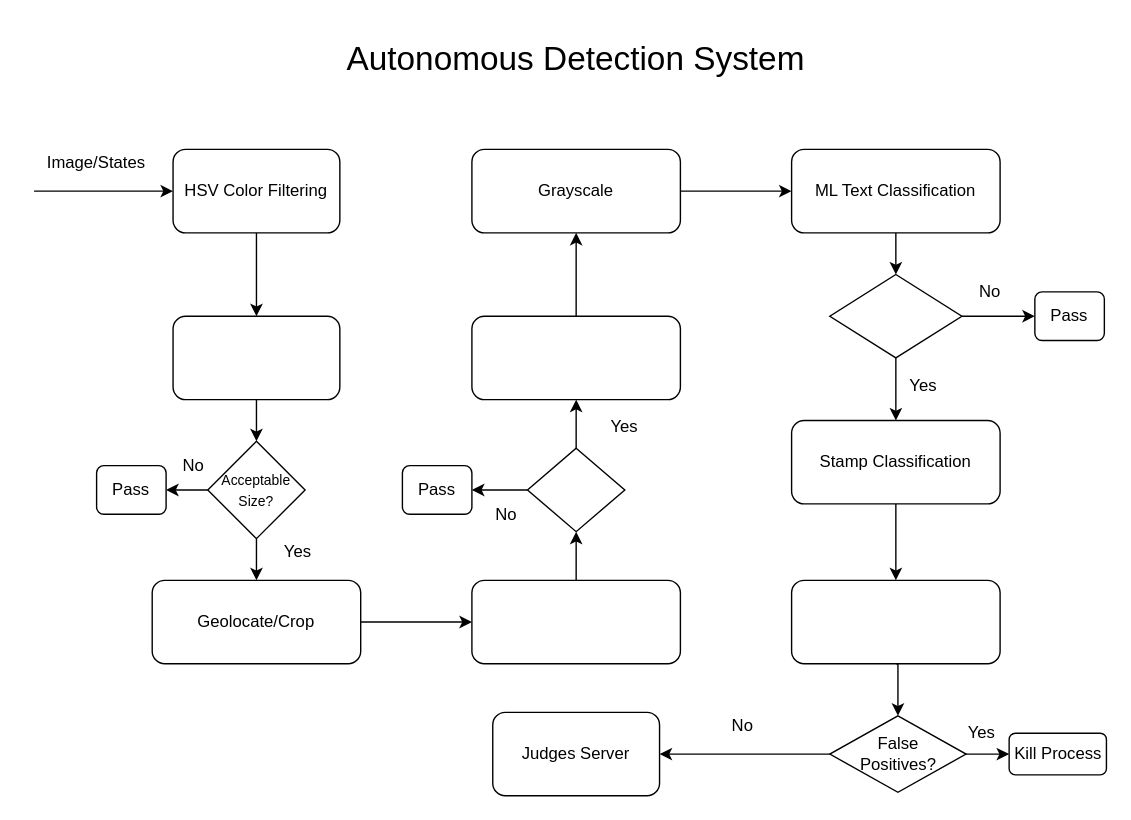
This 1131x820 diagram has some shape labels left out. The shapes that lost their labels are listed below. From the top down, each one's centre as x and y in pixels, then its label:
At point 895,315: "Valid Character?".
At point 256,357: "Blob Detection".
At point 575,357: "Histogram Analysis".
At point 575,489: "Valid Shape?".
At point 575,621: "Polygon Detection".
At point 895,621: "Manual Checking".
